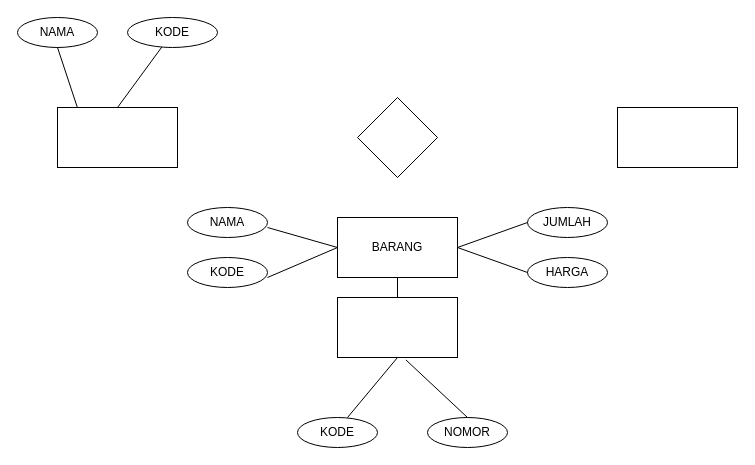
This 755x465 diagram has some shape labels left out. Here are the shapes that lost their labels. From the top down, the centre of each, then its label:
(x=117, y=137): SUPPLIER
(x=397, y=137): ADA
(x=677, y=137): PEGAWAI
(x=397, y=327): NOTA
